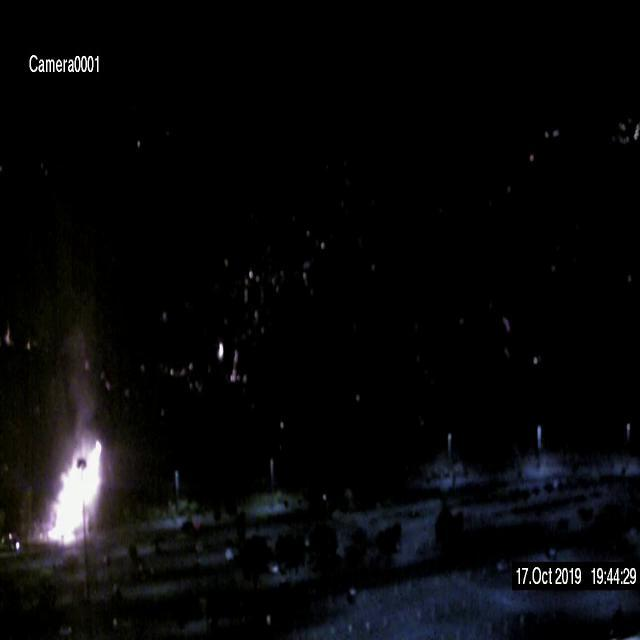Fire: (41, 444, 108, 548)
Smoke: (30, 288, 114, 444)
